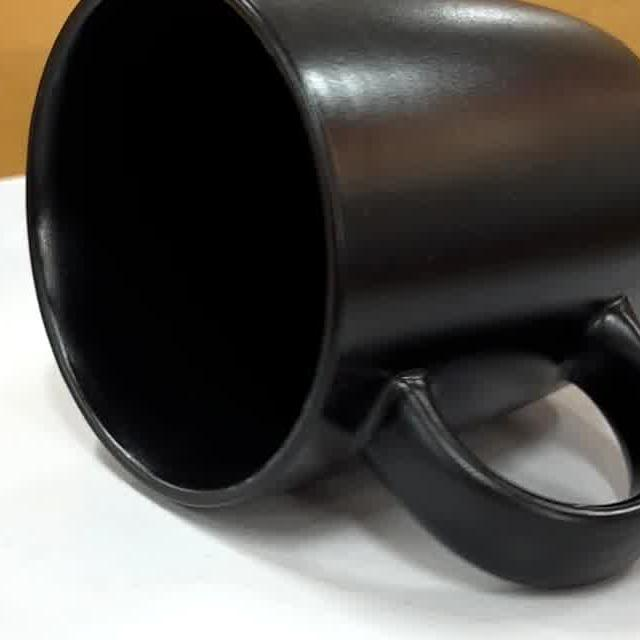cup: (26, 0, 640, 592)
